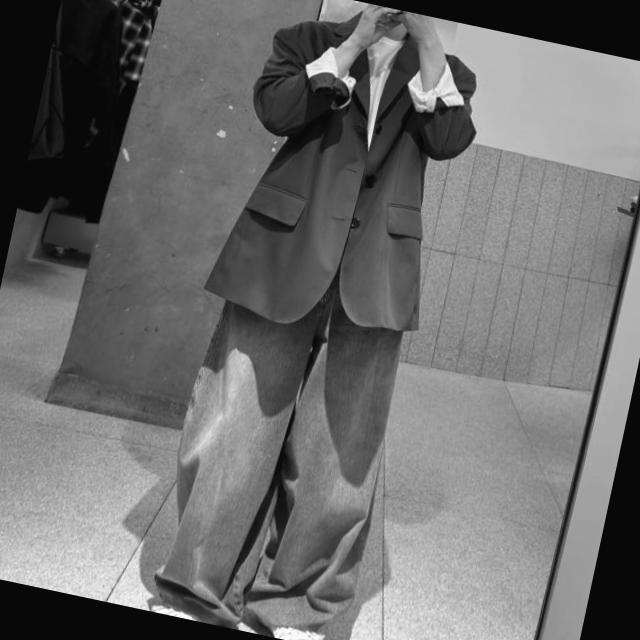blazer: (199, 0, 497, 353)
denimpants: (144, 257, 418, 640)
